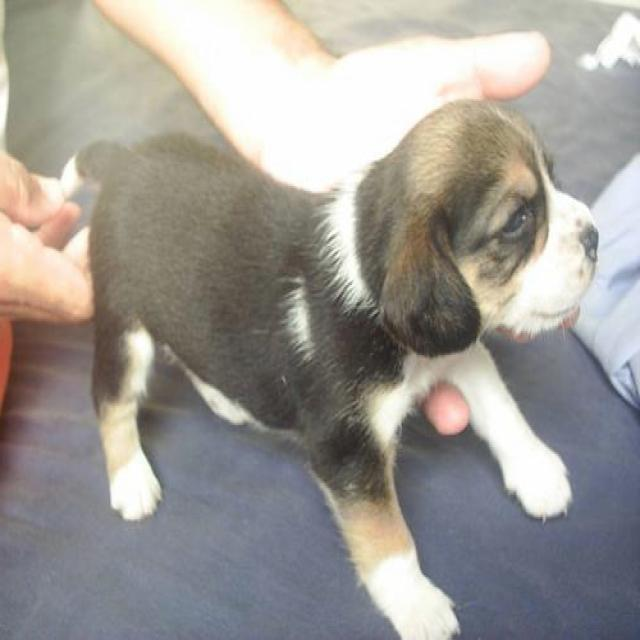beagle: (54, 92, 602, 638)
